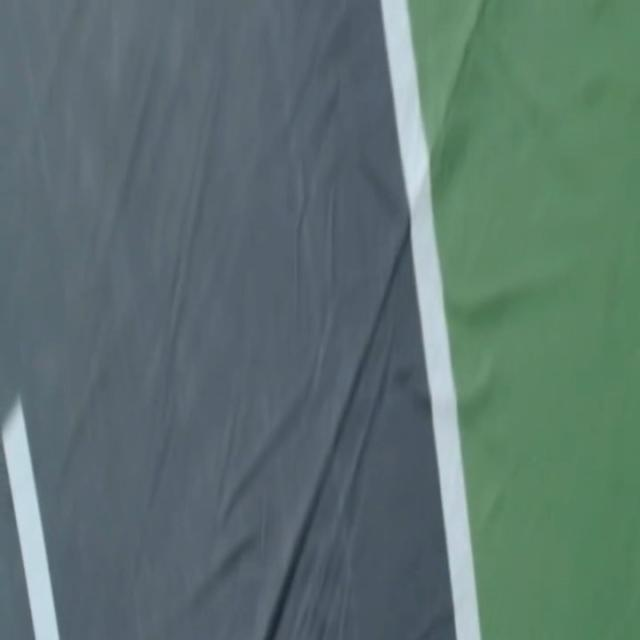center: (3, 400, 60, 639)
right: (381, 0, 480, 639)
